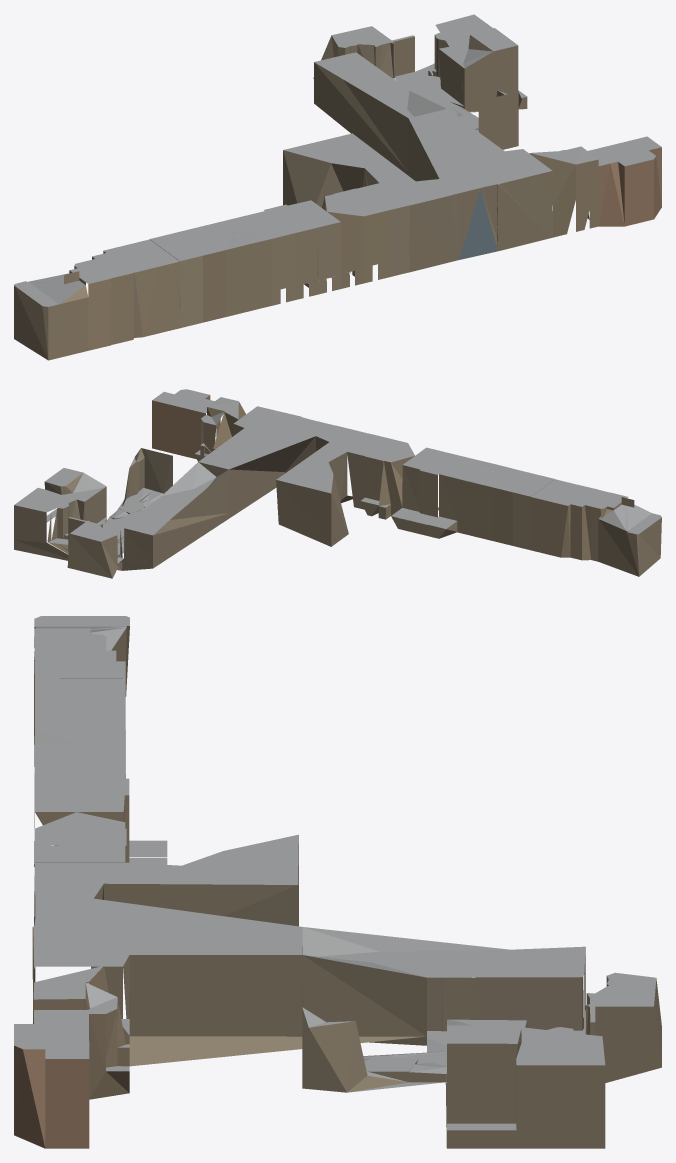
File: chunk-face-evertsen-91-135.lod2.glb
The picture shows the model from 3 angles, top to bottom: view 1: azimuth 30°, elevation 25°; view 2: azimuth 150°, elevation 25°; view 3: azimuth 270°, elevation 25°; orthographic projection. The views are drawn at different scales.
Visible parts, largest first — view 1: lod2; view 2: lod2; view 3: lod2.
Part boxes in pixels (<box>): lod2: <box>14,14,661,360</box>; lod2: <box>14,389,661,578</box>; lod2: <box>14,616,661,1148</box>.
Size of the model in its own units: 162 by 18.27 by 98.09.
